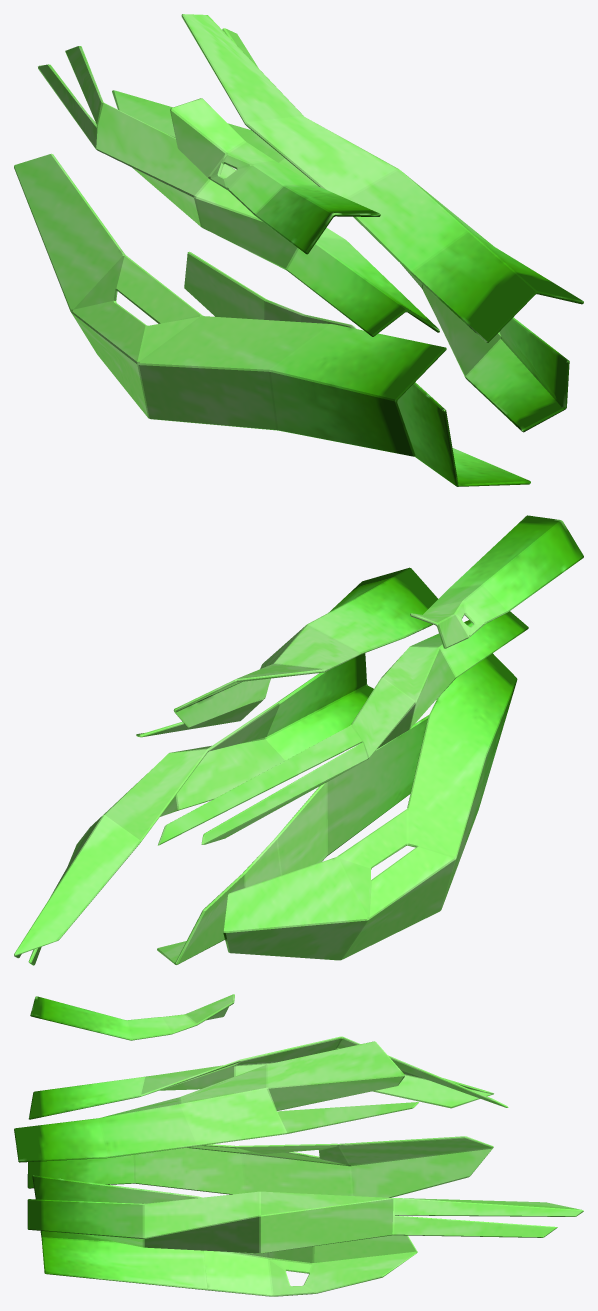
Rendered from SeaGrass3.fbx.
The picture shows the model from 3 angles, top to bottom: view 1: azimuth 30°, elevation 25°; view 2: azimuth 150°, elevation 25°; view 3: azimuth 270°, elevation 25°; orthographic projection. The views are drawn at different scales.
Parts seen in each view (by area): view 1: SeaGrass3; view 2: SeaGrass3; view 3: SeaGrass3.
Boxes of the visible parts, <box> form: SeaGrass3: <box>14,14,583,486</box>; SeaGrass3: <box>14,515,583,965</box>; SeaGrass3: <box>14,994,583,1296</box>.
Size of the model in its own units: 19.64 by 22.52 by 47.61.
Materials: 1 (1 with a texture image).
